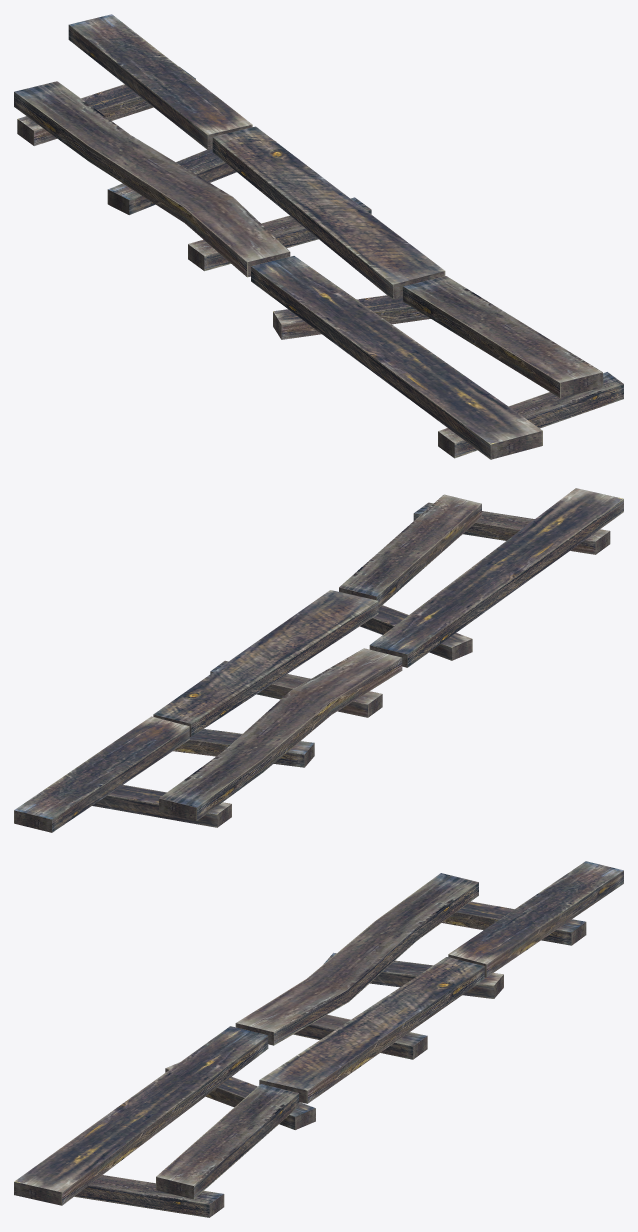
Rendered from m_way21.glb.
3 views of the same model, one above another, from view 1: azimuth 30°, elevation 25°; view 2: azimuth 150°, elevation 25°; view 3: azimuth 330°, elevation 25° (orthographic). The views are drawn at different scales.
Visible parts, largest first — view 1: m_way21; view 2: m_way21; view 3: m_way21.
Part boxes in pixels (left/top/right/bottom): m_way21: left=14, top=14, right=623, bottom=459; m_way21: left=14, top=488, right=623, bottom=832; m_way21: left=14, top=861, right=623, bottom=1217.
Size of the model in its own units: 1.36 by 0.2004 by 6.44.
1 material, 1 textured.
